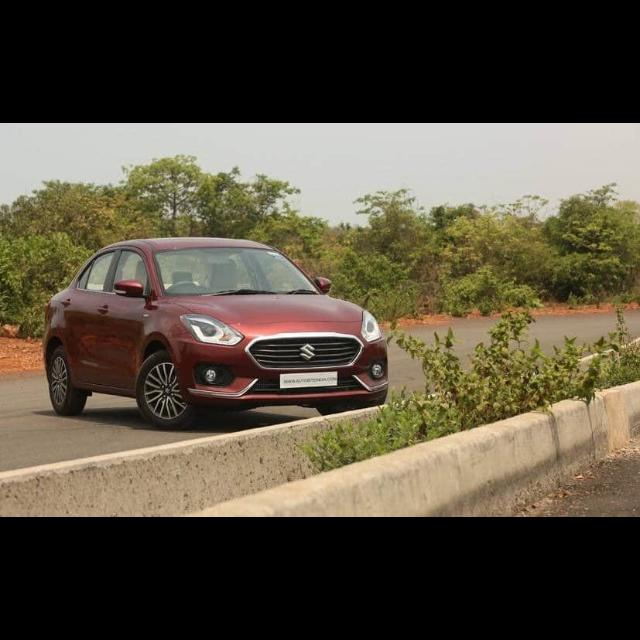vehicles: (40, 238, 384, 436)
